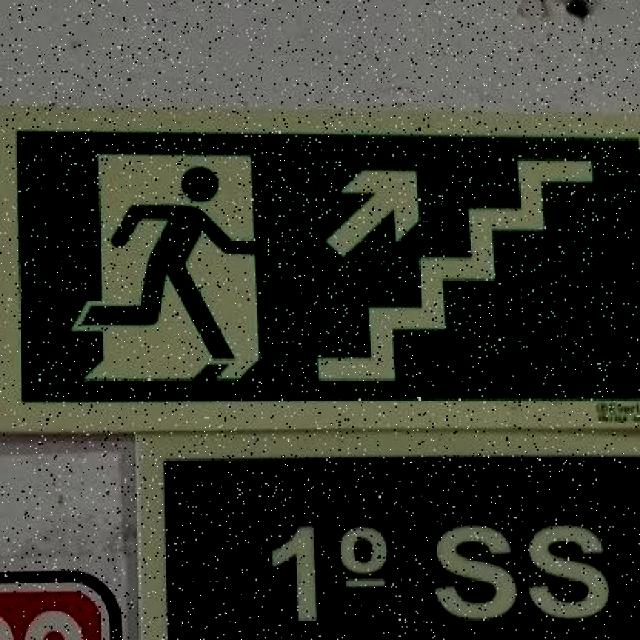emergency_exit: (4, 115, 639, 427), (159, 454, 639, 638)
